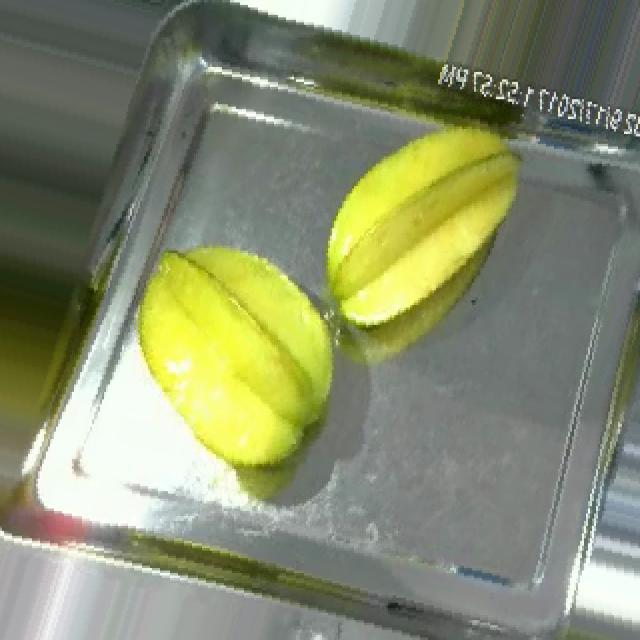fruit: (98, 216, 370, 498), (296, 89, 542, 365)
